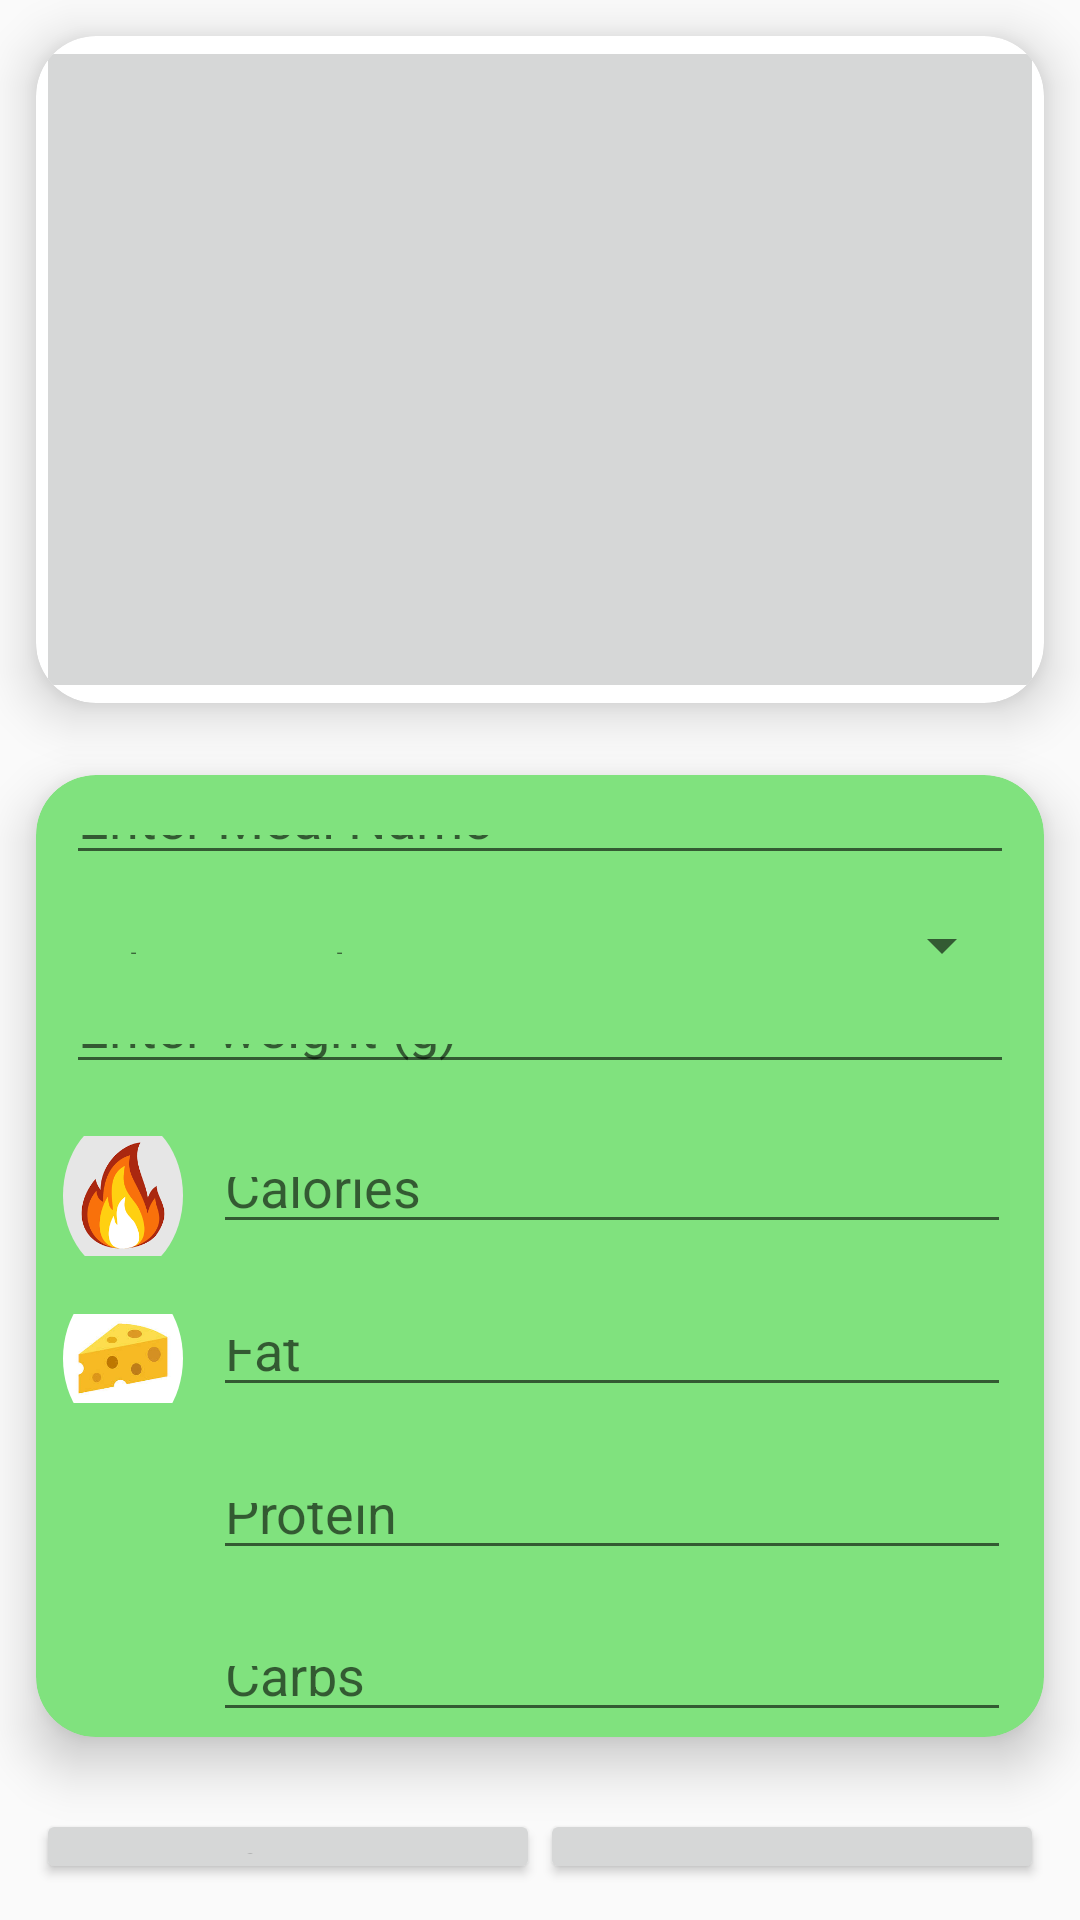

Icon click points for this 1080px×1920px phone screenshot, format (x,y):
Calorie Icon: (123,1196)
